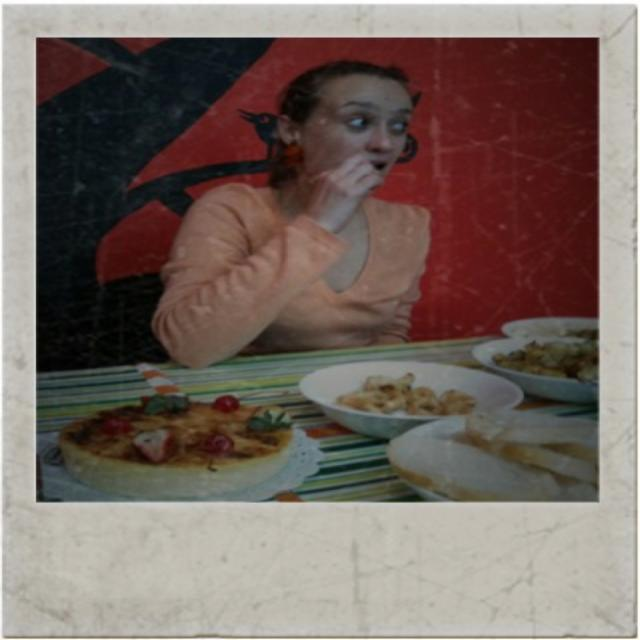non-organic waste: (300, 361, 537, 446)
